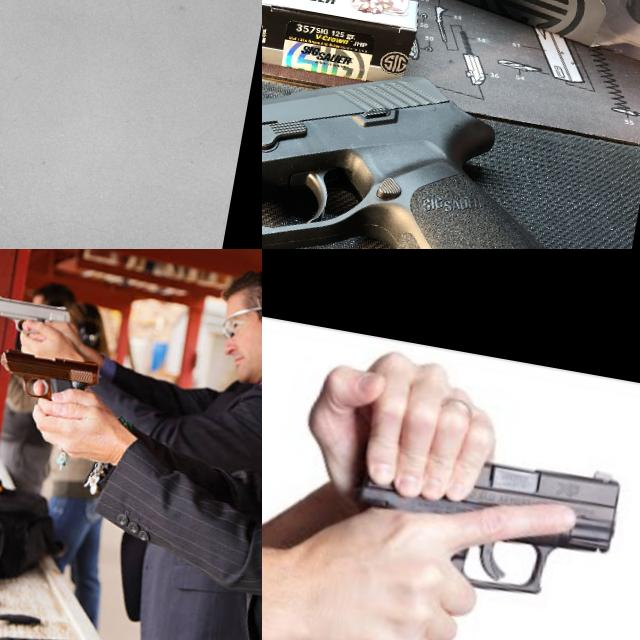handgun: (262, 4, 640, 249), (0, 0, 262, 249), (337, 422, 631, 614), (0, 343, 105, 409), (0, 290, 75, 344)
